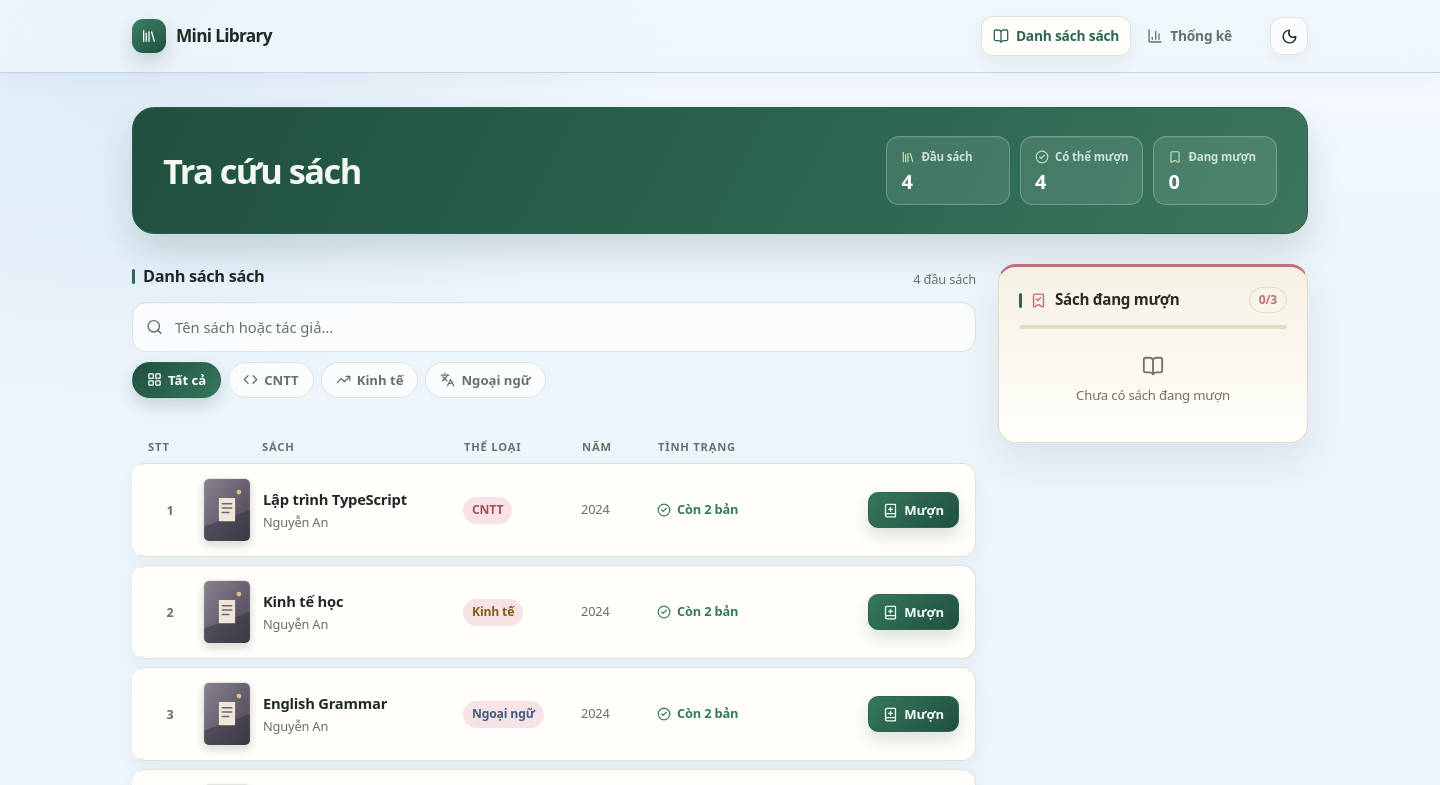
Scenario: theme toggle updates the document and persists the selection
Click the button named "Giao diện tối" at (1289, 36), box left=1270, top=17, right=1308, bottom=55
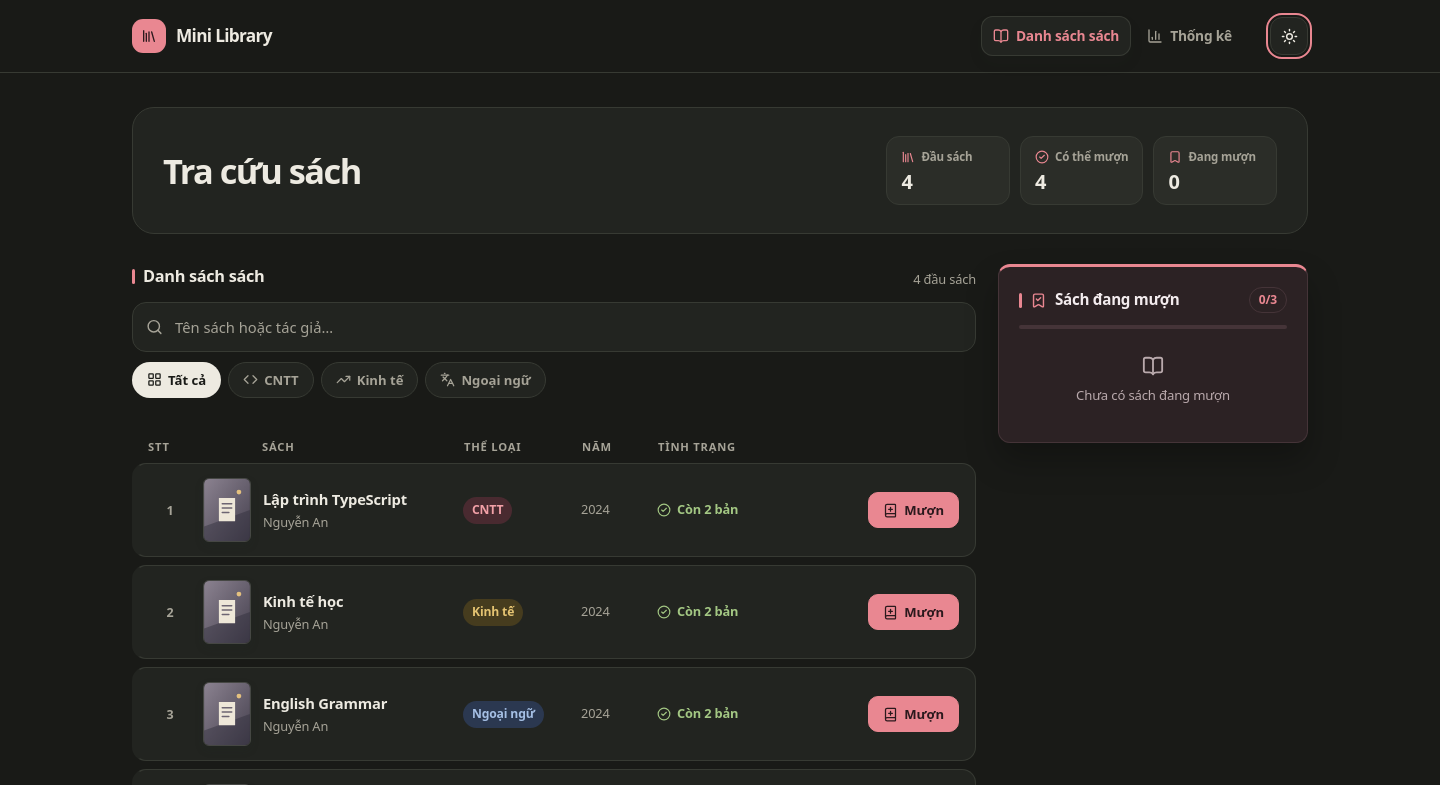
Check: the button named "Giao diện sáng" is shown, box left=1270, top=17, right=1308, bottom=55
